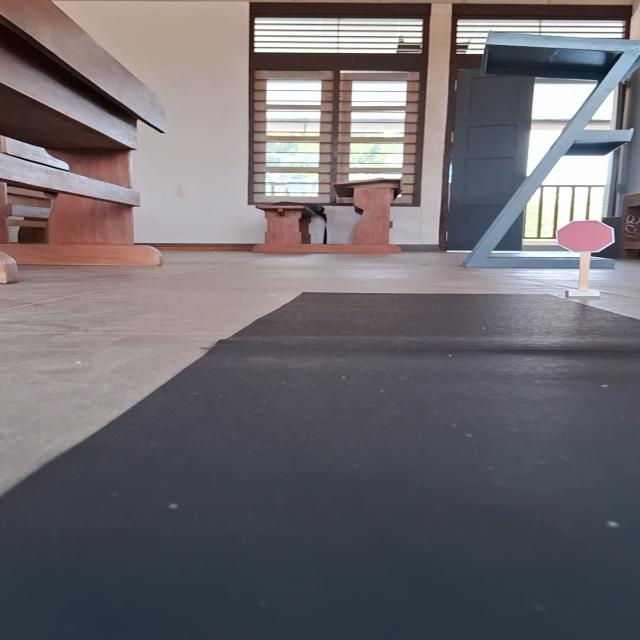Stop: (554, 219, 616, 254)
